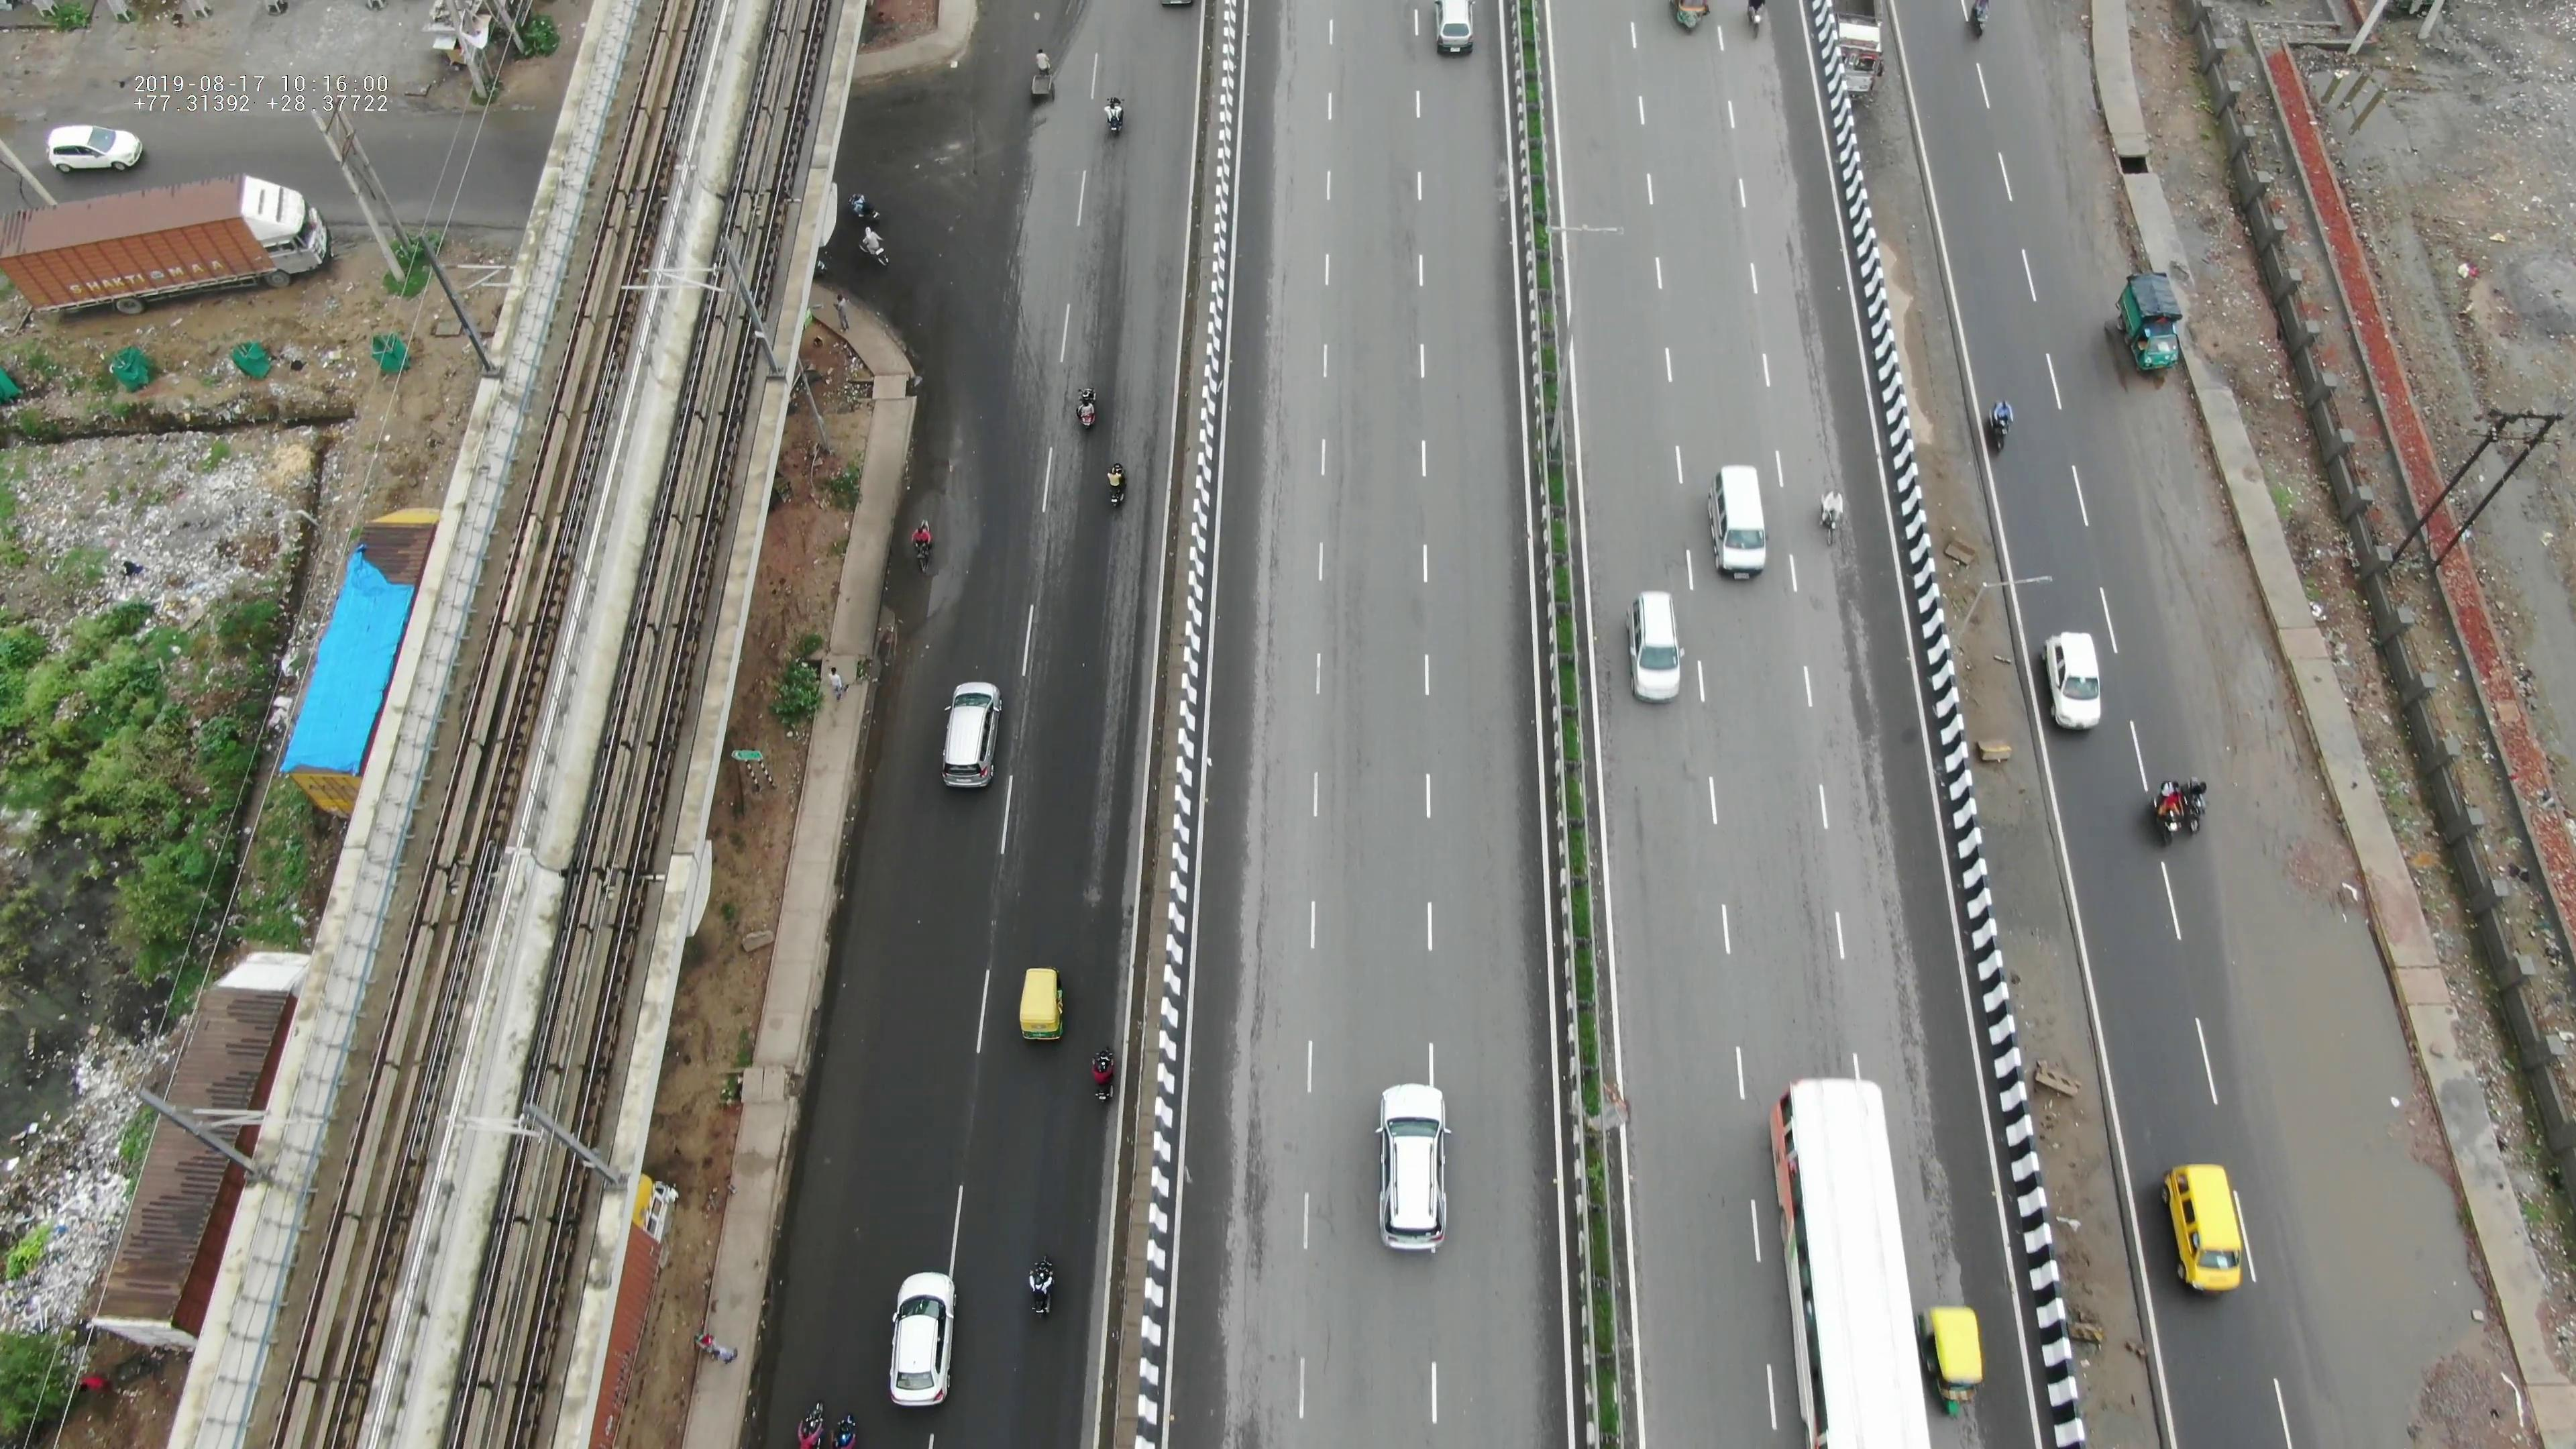Ravelling: (1235, 853, 1281, 1274), (1821, 582, 1898, 821), (1780, 244, 1838, 478), (1240, 534, 1284, 826)
